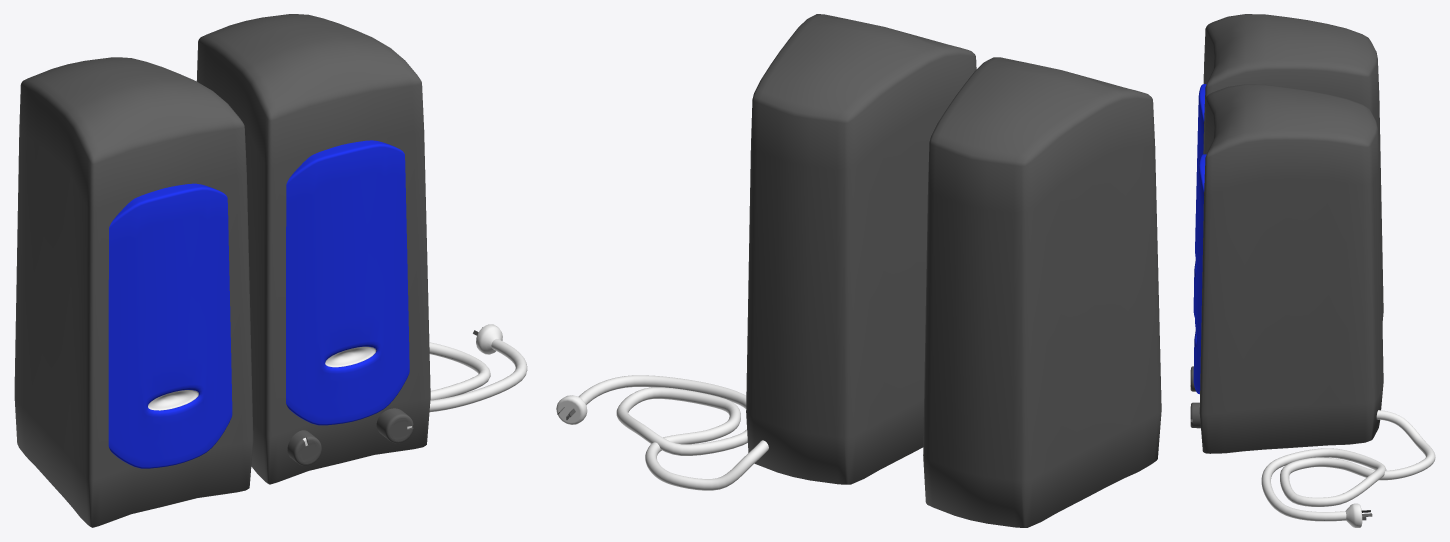
File: Parlantes.fbx
3 renders of one model, left to right at view 1: azimuth 30°, elevation 25°; view 2: azimuth 150°, elevation 25°; view 3: azimuth 270°, elevation 25°, orthographic. The views are drawn at different scales.
Parts seen in each view (by area): view 1: Parlantes; view 2: Parlantes; view 3: Parlantes.
Part boxes in pixels (<box>): Parlantes: <box>14,14,527,527</box>; Parlantes: <box>556,14,1161,527</box>; Parlantes: <box>1190,14,1435,527</box>.
Size of the model in its own units: 0.3361 by 0.2582 by 0.1728.
